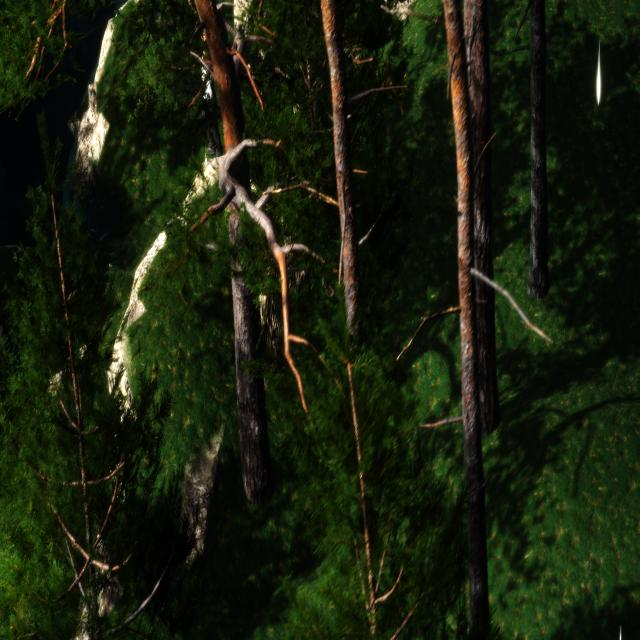Human: (194, 27, 224, 156)
